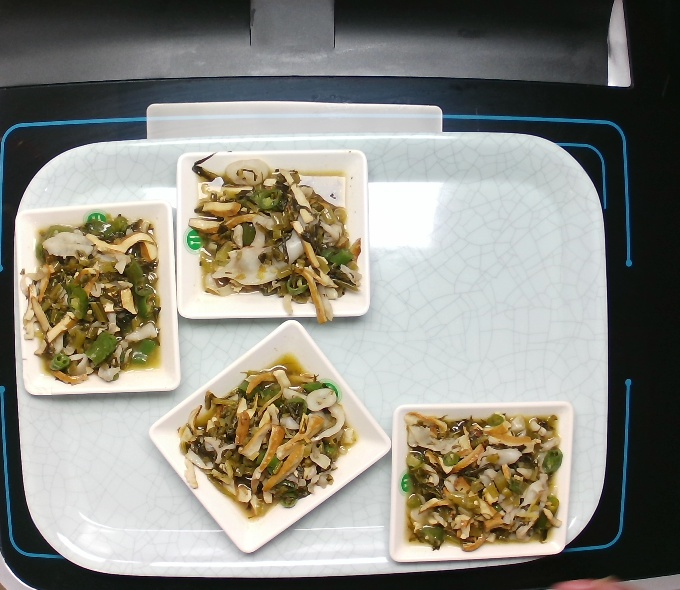wcq-YouYuXueCaiDouGan: (180, 363, 356, 515), (18, 218, 170, 384), (193, 169, 359, 303), (400, 411, 559, 549)
